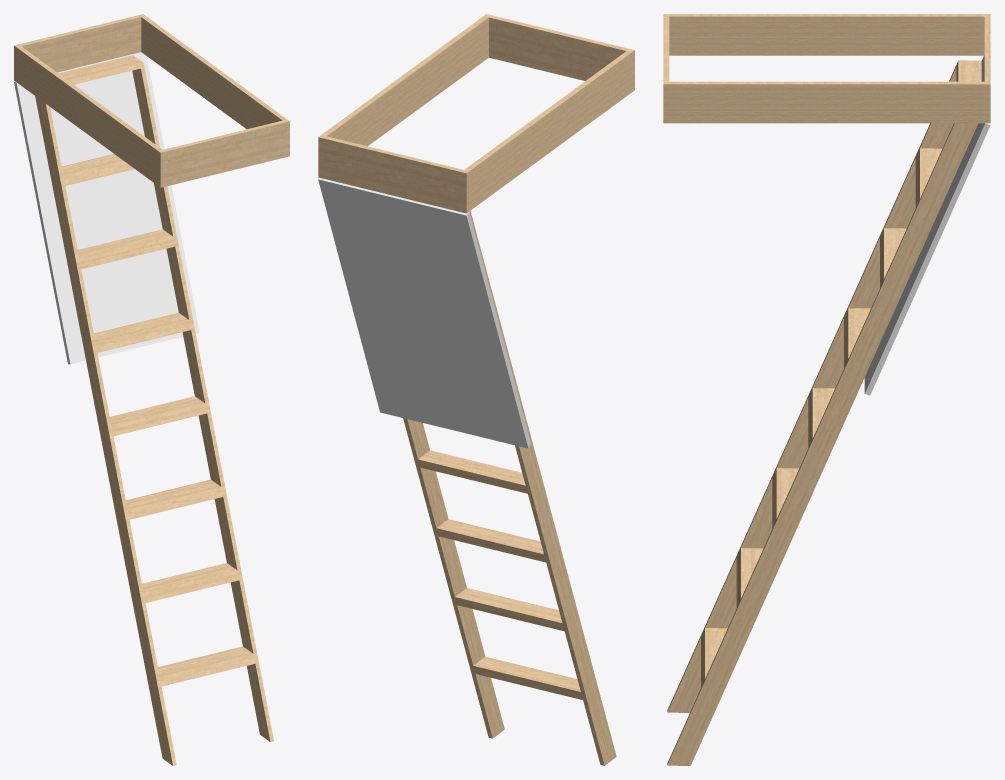
Rendered from sweethome3d-contributions-staircase-ladder-451.glb.
3 views of the same model, side by side, from view 1: azimuth 30°, elevation 25°; view 2: azimuth 150°, elevation 25°; view 3: azimuth 270°, elevation 25° (orthographic). The views are drawn at different scales.
Visible parts, largest first — view 1: 20, 22, 1; view 2: 22, 1, 20; view 3: 20, 1, 22.
Boxes of the visible parts, bbox=[...] form: 20: bbox=[35, 55, 273, 765]; 22: bbox=[14, 52, 199, 364]; 1: bbox=[14, 14, 289, 187]; 22: bbox=[318, 177, 530, 448]; 1: bbox=[318, 14, 634, 213]; 20: bbox=[403, 211, 616, 765]; 20: bbox=[667, 60, 981, 765]; 1: bbox=[663, 14, 990, 123]; 22: bbox=[864, 55, 990, 395].
Size of the model in its own units: 58 by 265 by 114.
3 materials, 2 textured.
